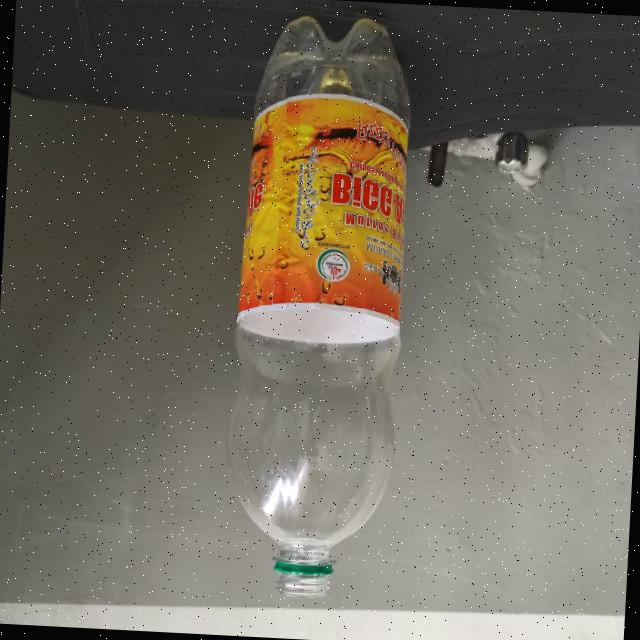bottle: (214, 18, 413, 616)
label: (235, 92, 416, 330)
